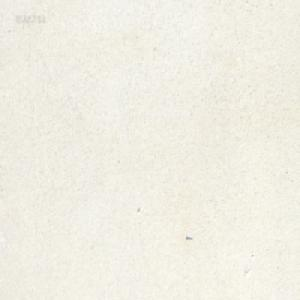Nail: (185, 234, 192, 240)
